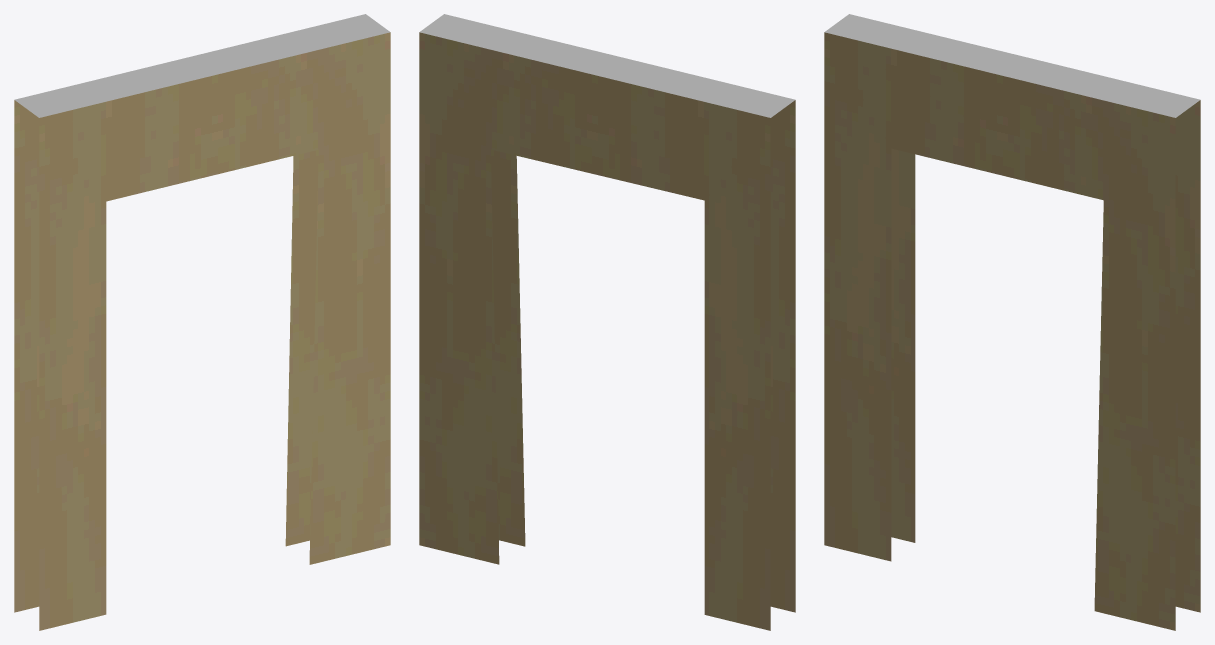
File: W_I3_o [Beige]_273.glb
3 renders of one model, left to right at view 1: azimuth 30°, elevation 25°; view 2: azimuth 150°, elevation 25°; view 3: azimuth 330°, elevation 25°, orthographic.
Parts seen in each view (by area): view 1: pPlaneShape2, pPlaneShape3, pPlaneShape1; view 2: pPlaneShape3, pPlaneShape2, pPlaneShape1; view 3: pPlaneShape2, pPlaneShape3, pPlaneShape1.
Part boxes in pixels (x1=…): pPlaneShape2: x1=39, y1=32, x2=390, y2=630; pPlaneShape3: x1=14, y1=100, x2=318, y2=612; pPlaneShape1: x1=14, y1=14, x2=390, y2=117; pPlaneShape3: x1=419, y1=32, x2=770, y2=630; pPlaneShape2: x1=491, y1=100, x2=795, y2=612; pPlaneShape1: x1=419, y1=14, x2=795, y2=117; pPlaneShape2: x1=824, y1=32, x2=1175, y2=630; pPlaneShape3: x1=891, y1=100, x2=1200, y2=612; pPlaneShape1: x1=824, y1=14, x2=1200, y2=117.
Size of the model in its own units: 0.25 by 0.3486 by 0.0308.
3 materials, 2 textured.
